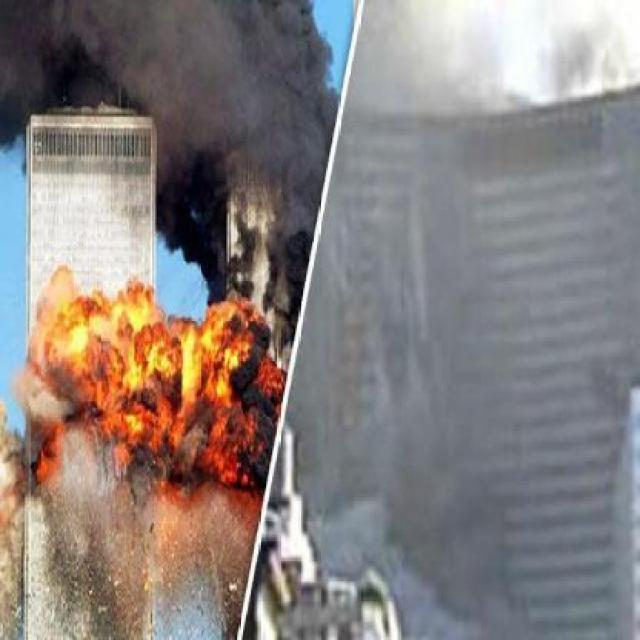Fire: (0, 282, 271, 520)
Smoke: (28, 20, 316, 188), (266, 502, 477, 640)
